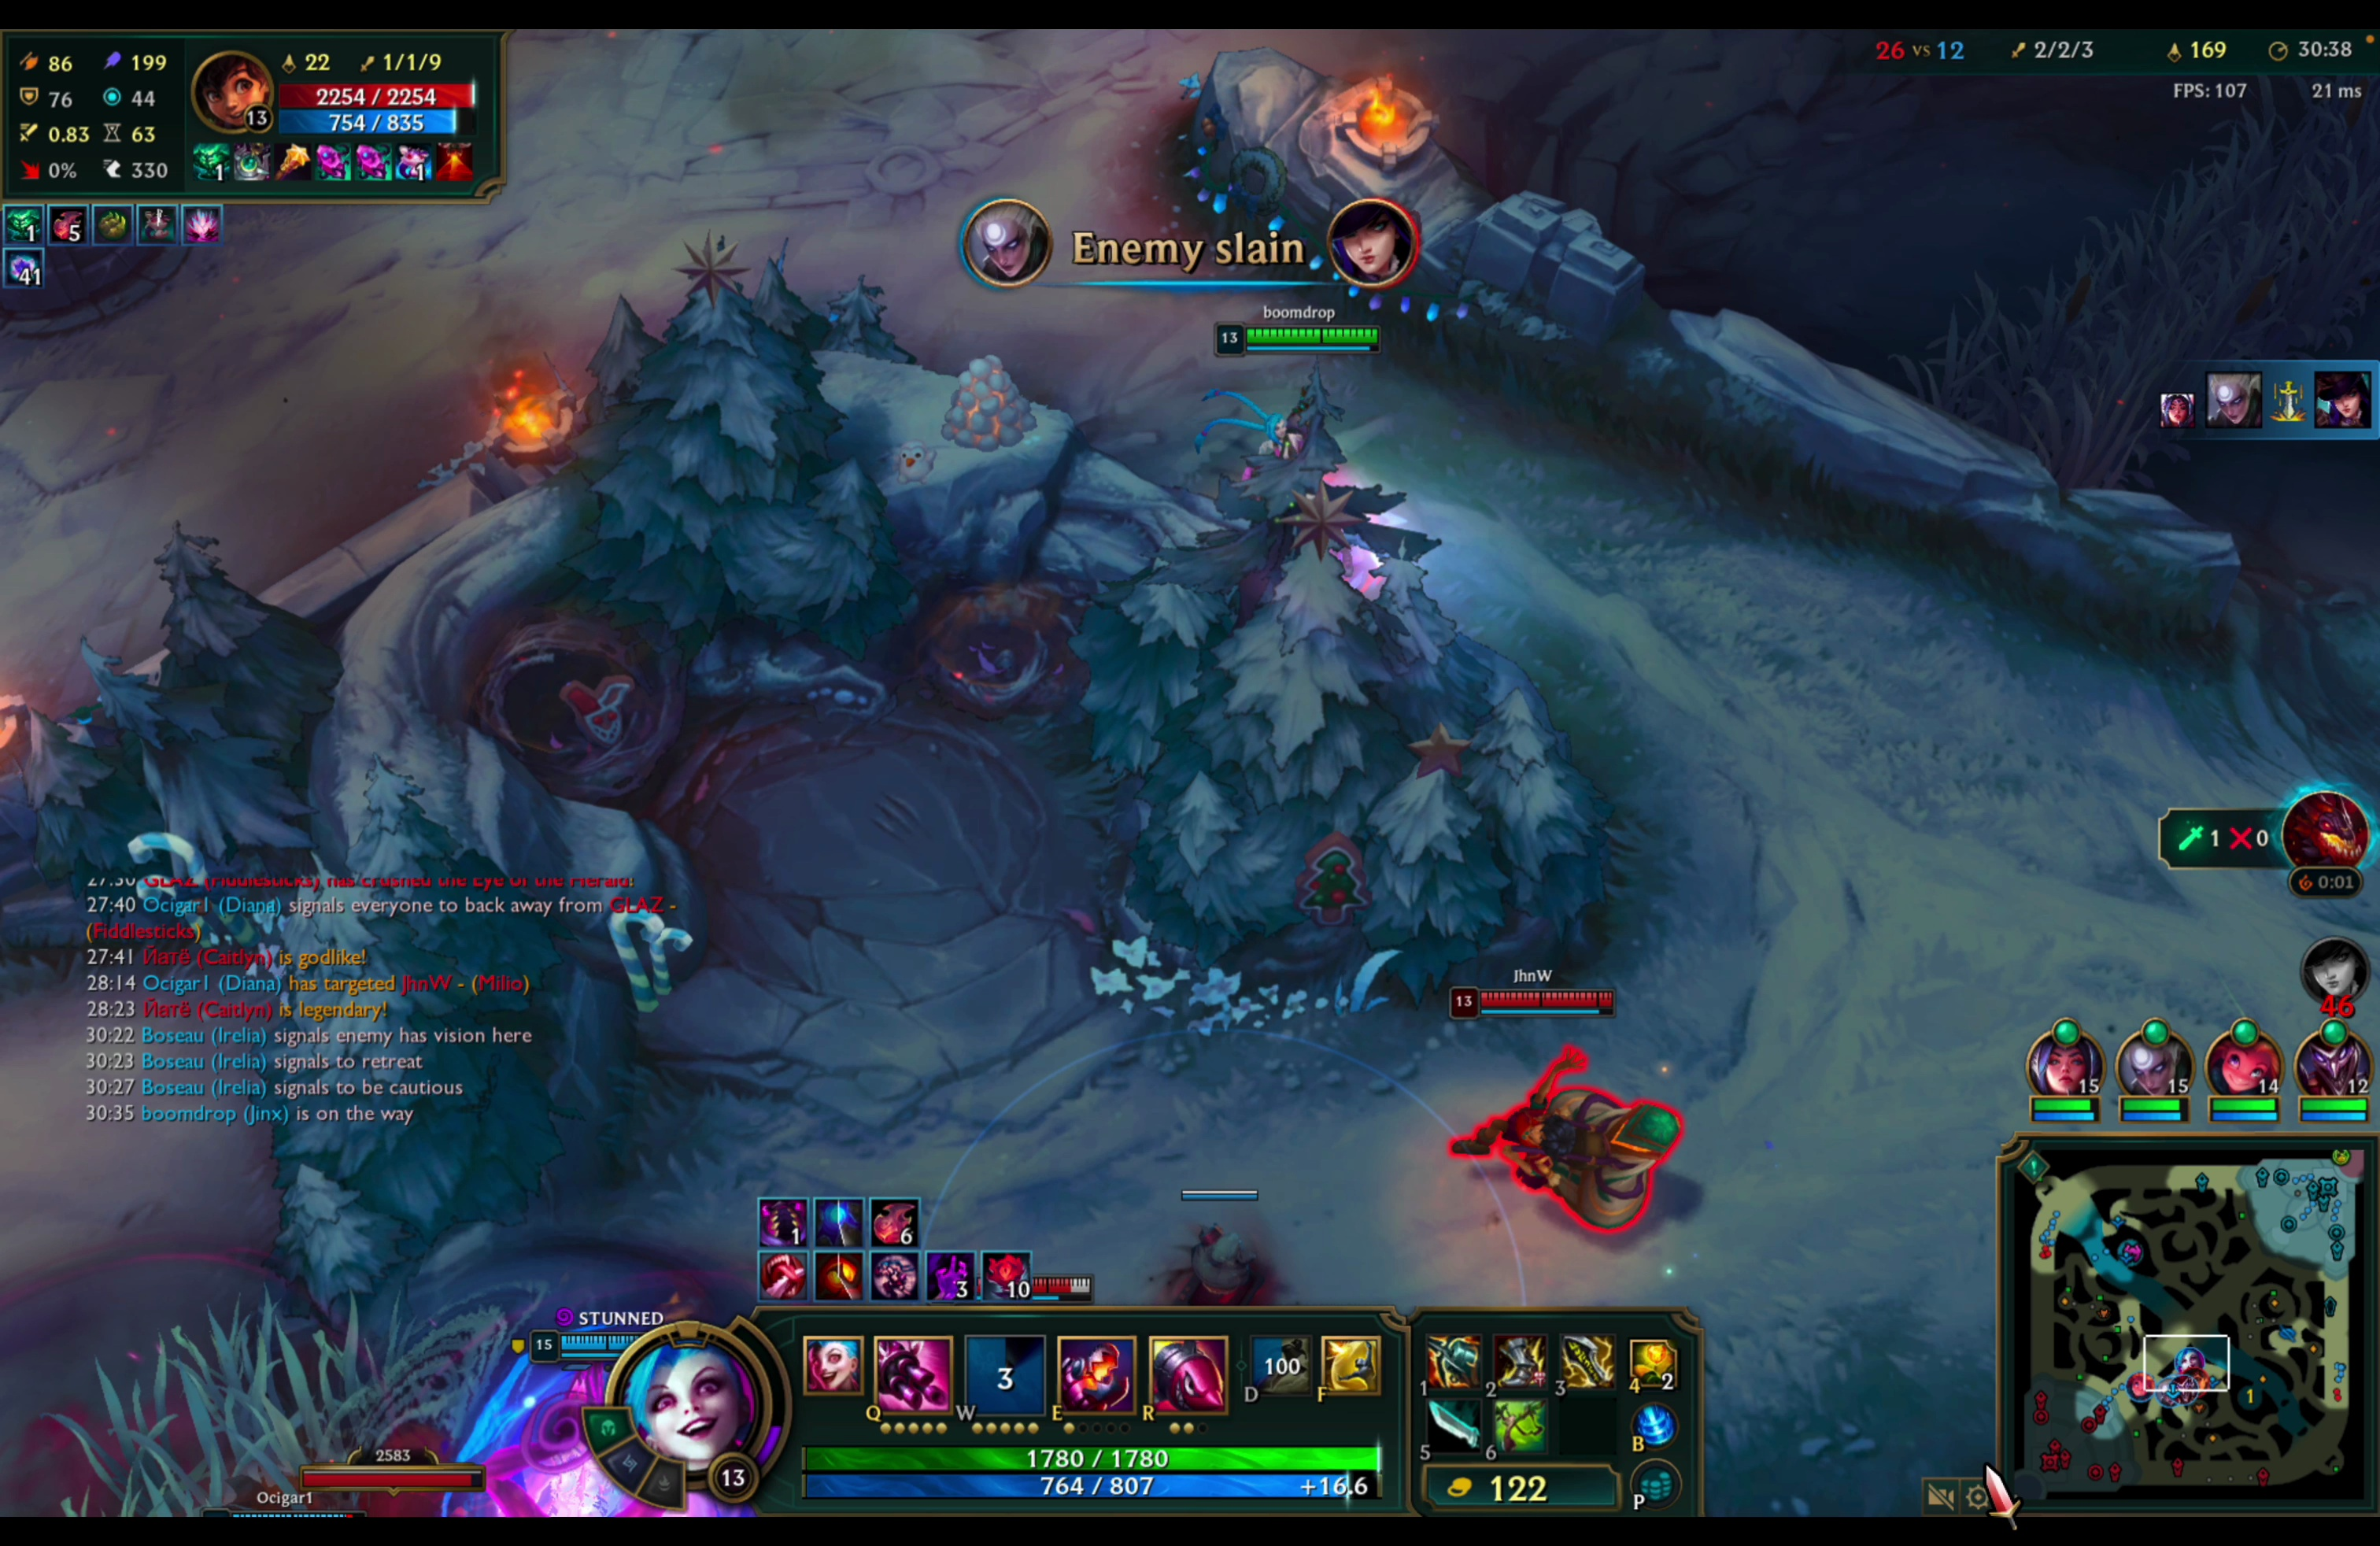JINX_W_PROJECTILE: (1197, 298, 1433, 614)
